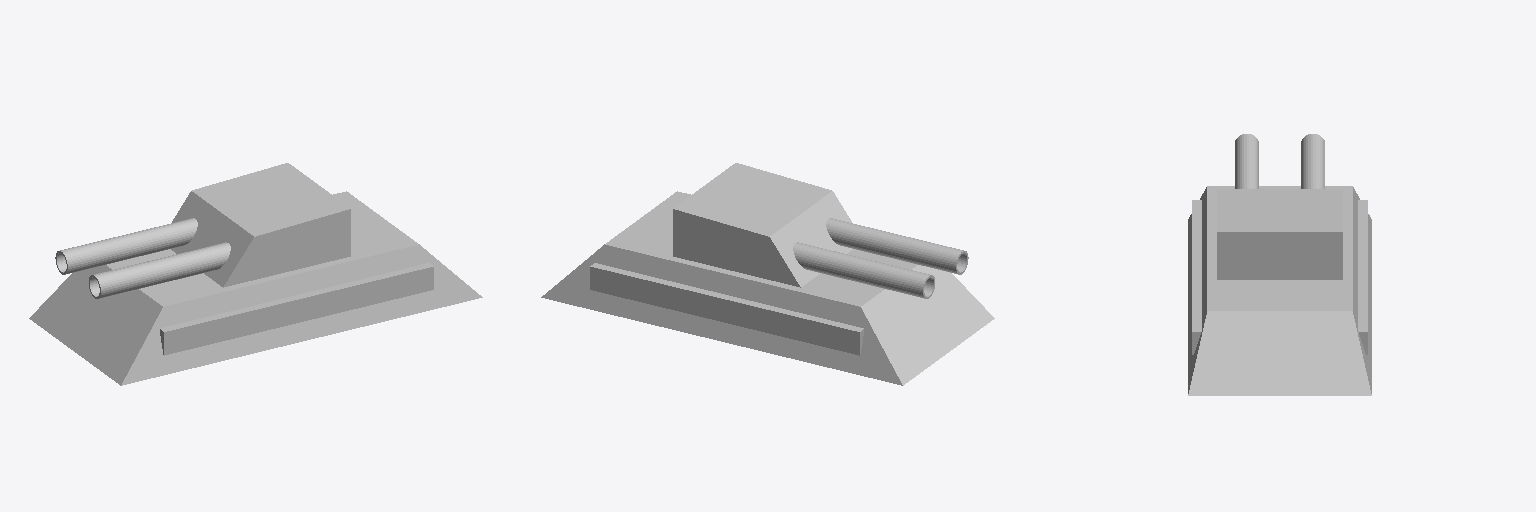
File: Nave Lv2.obj
The picture shows the model from 3 angles: view 1: azimuth 30°, elevation 25°; view 2: azimuth 150°, elevation 25°; view 3: azimuth 270°, elevation 25°; orthographic projection.
Parts seen in each view (by area): view 1: Cubo.018_Cubo.019, Cubo.017, Cubo.019_Cubo.020, Cilindro.012, Cilindro.013_Cilindro.014; view 2: Cubo.018_Cubo.019, Cubo.017, Cubo.019_Cubo.020, Cilindro.013_Cilindro.014, Cilindro.012; view 3: Cubo.018_Cubo.019, Cubo.017, Cubo.019_Cubo.020, Cilindro.012, Cilindro.013_Cilindro.014.
Part boxes in pixels (x1,y1,x2,y2): Cubo.018_Cubo.019: (29,191,482,385); Cubo.017: (171,163,350,287); Cubo.019_Cubo.020: (160,263,433,355); Cilindro.012: (55,218,197,274); Cilindro.013_Cilindro.014: (89,242,230,298); Cubo.018_Cubo.019: (541,191,994,385); Cubo.017: (673,163,852,287); Cubo.019_Cubo.020: (590,263,863,355); Cilindro.013_Cilindro.014: (826,218,968,274); Cilindro.012: (793,242,934,298); Cubo.018_Cubo.019: (1188,186,1371,395); Cubo.017: (1217,189,1342,279); Cubo.019_Cubo.020: (1192,200,1367,354); Cilindro.012: (1301,134,1324,188); Cilindro.013_Cilindro.014: (1235,134,1258,188).
Size of the model in its own units: 1.29 by 0.3743 by 0.57.